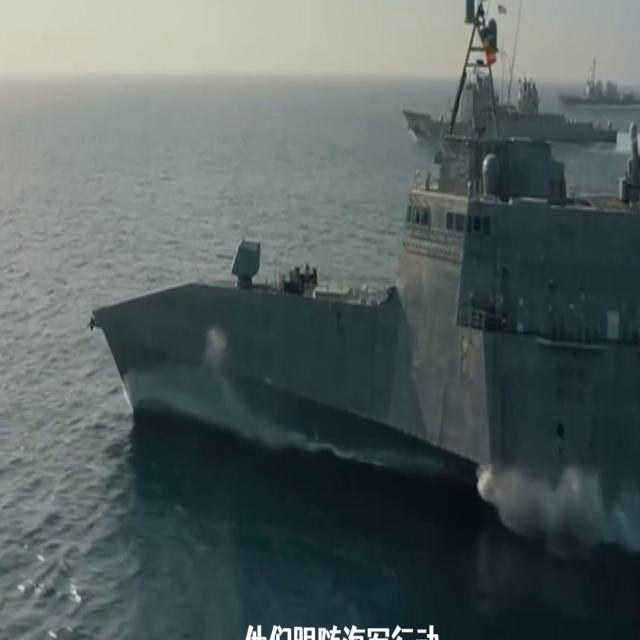navalvessels: (86, 57, 640, 542), (407, 56, 607, 157), (563, 54, 640, 113)
